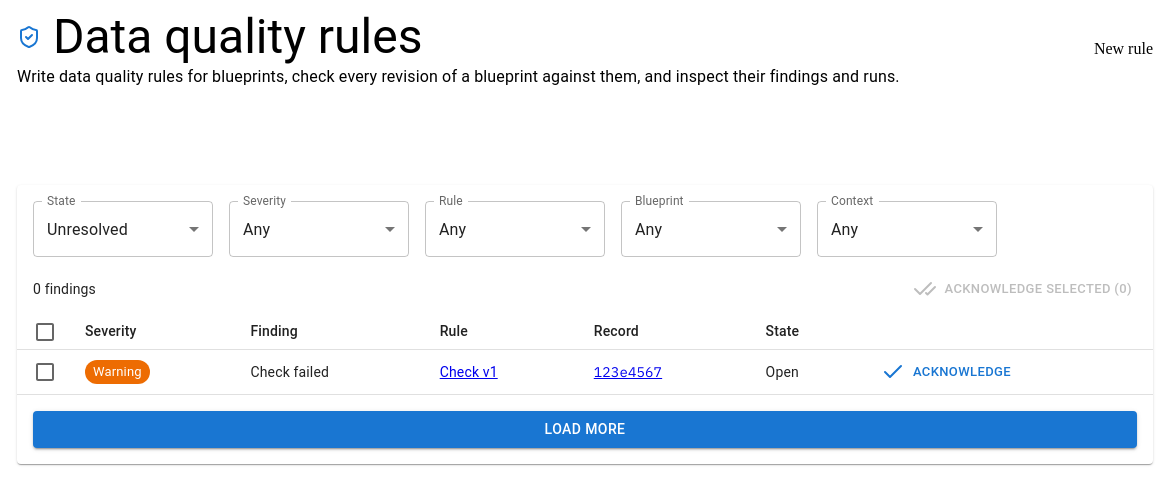
Test: RuleInspectionPage › loads the next page of findings
This screenshot has width=1171, height=483.
Click the button "Load more".
click(585, 429)  # box [33,411,1137,448]
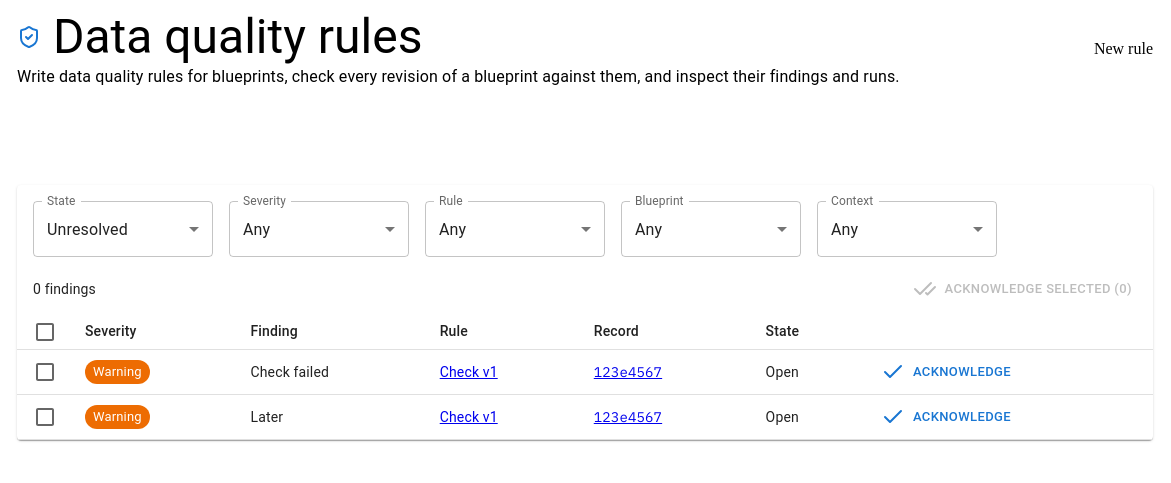
Check: the text "Check failed" is shown, box [234,350,424,394]
Check: the text "Later" is shown, box [234,394,424,440]
Check: the button "Load more" is gone
